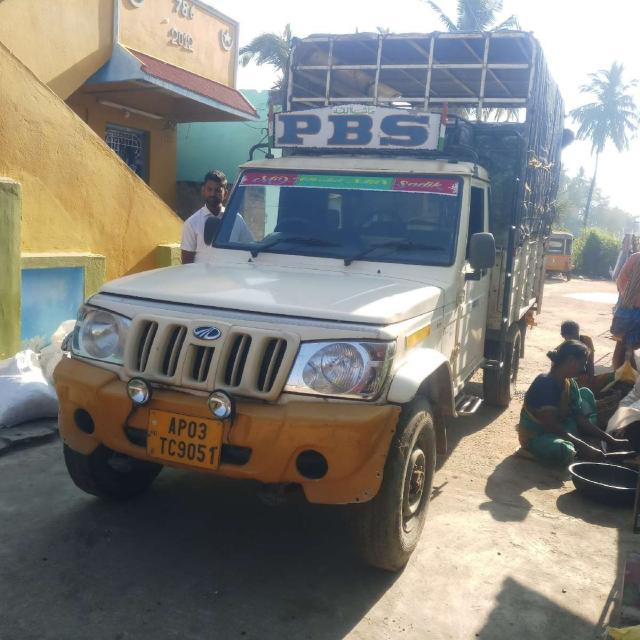light_vehicle: (57, 161, 541, 493)
